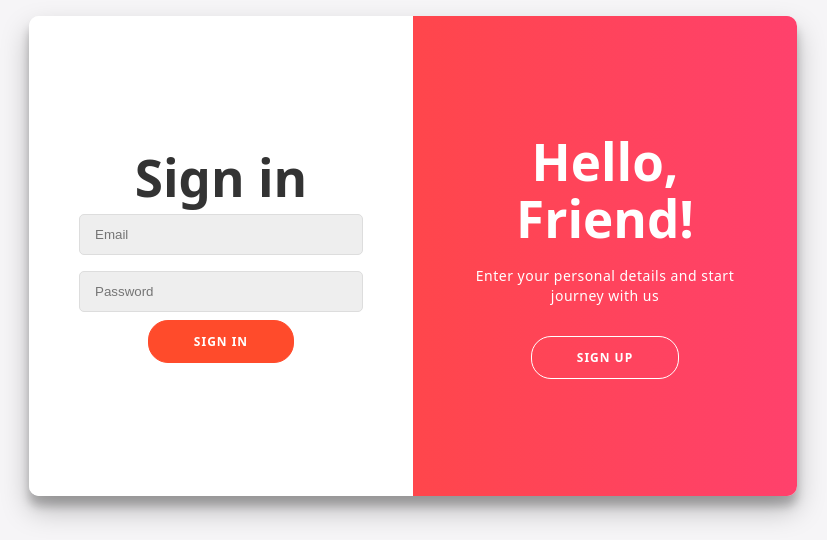
it: Login Page › should switch to Sign Up panel
Click the button "Sign Up": (606, 358) [531,336,680,379]
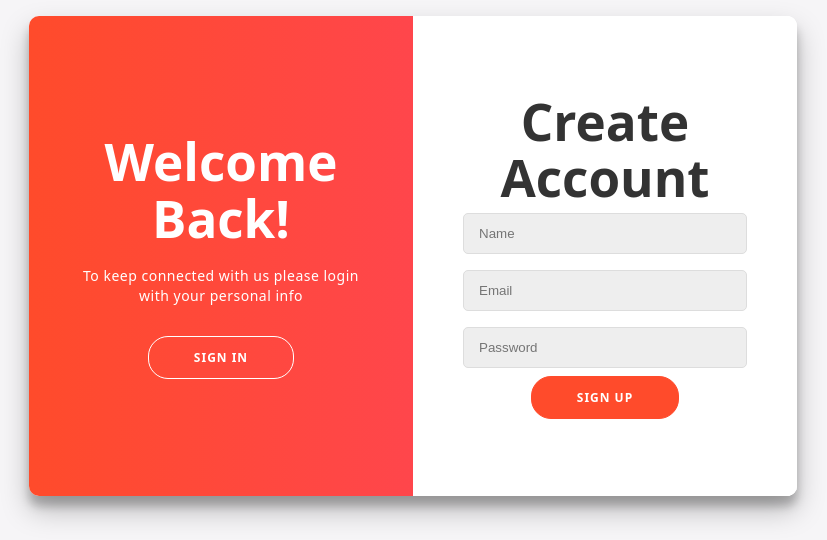
Now the form is shown, box [413,16,797,496]
